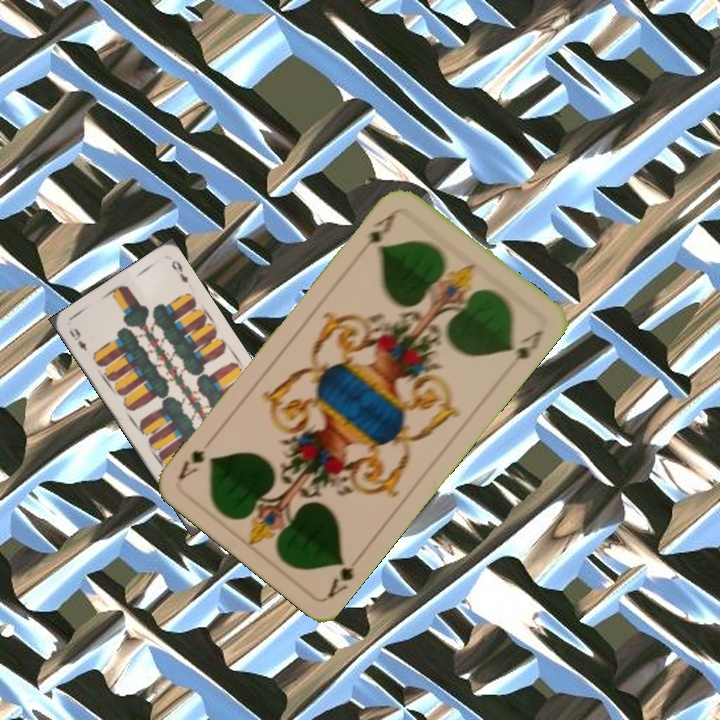E9: (65, 324, 90, 354)
GA: (357, 205, 401, 255), (323, 549, 366, 600)
